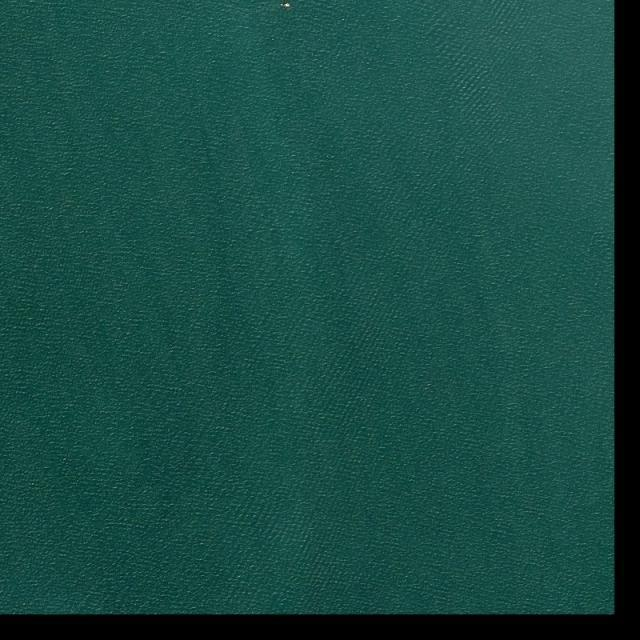ship: (282, 3, 292, 8)
